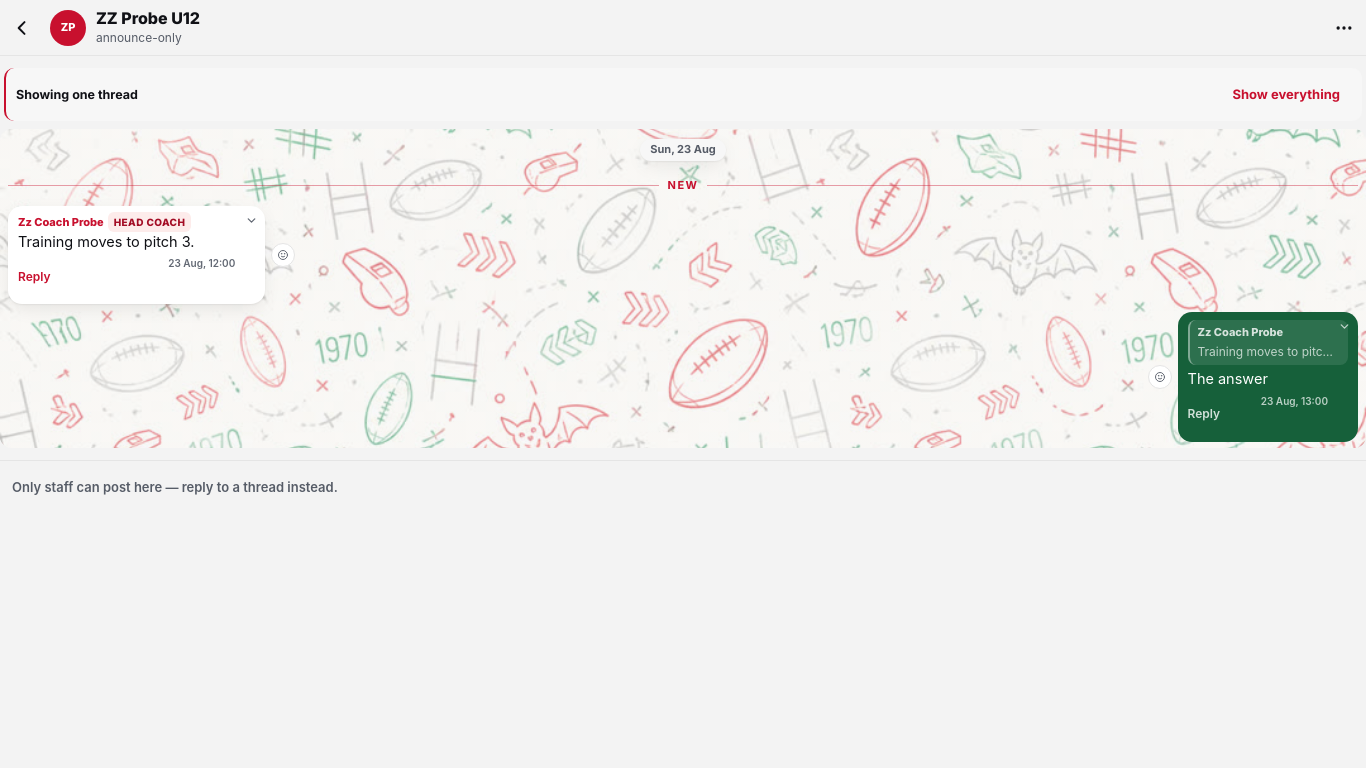
Test: Chat — fixture threads › ?thread= filters to that post and its replies on arrival, and Show everything lifts it
Expected: the text "The answer" is shown, [1188, 370, 1268, 387]
Expected: the text "Unrelated chatter" is not shown
Click the button "Show everything": {"x": 1286, "y": 95} [1220, 74, 1352, 115]
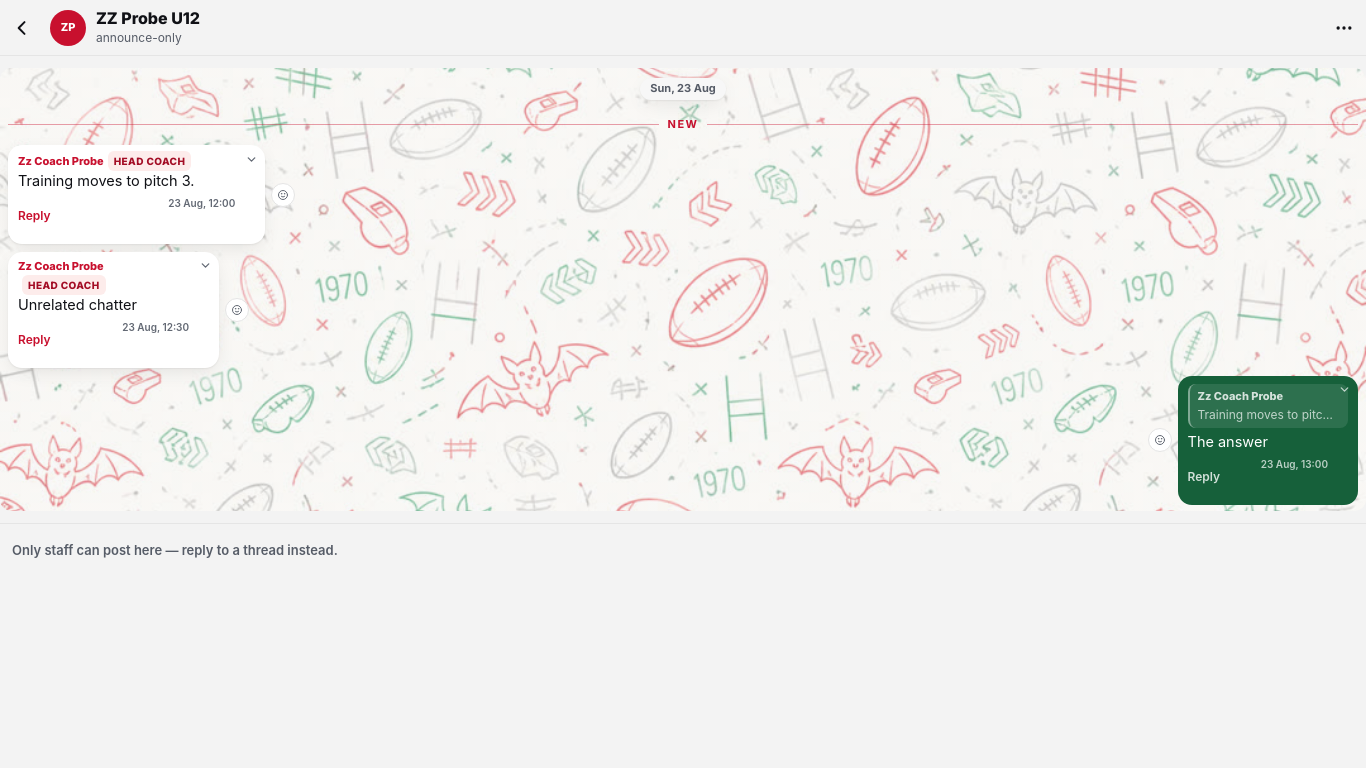
Expected: the text "Unrelated chatter" is shown, [18, 296, 137, 313]
Expected: the message with test id "focus-bar" is gone
